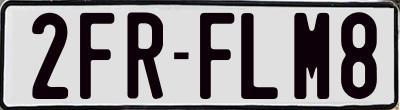2: (32, 12, 73, 99)
8: (340, 10, 379, 100)
F: (199, 11, 239, 103), (77, 13, 117, 103)
L: (241, 12, 281, 101)
M: (292, 10, 328, 97)
R: (126, 10, 166, 99)
